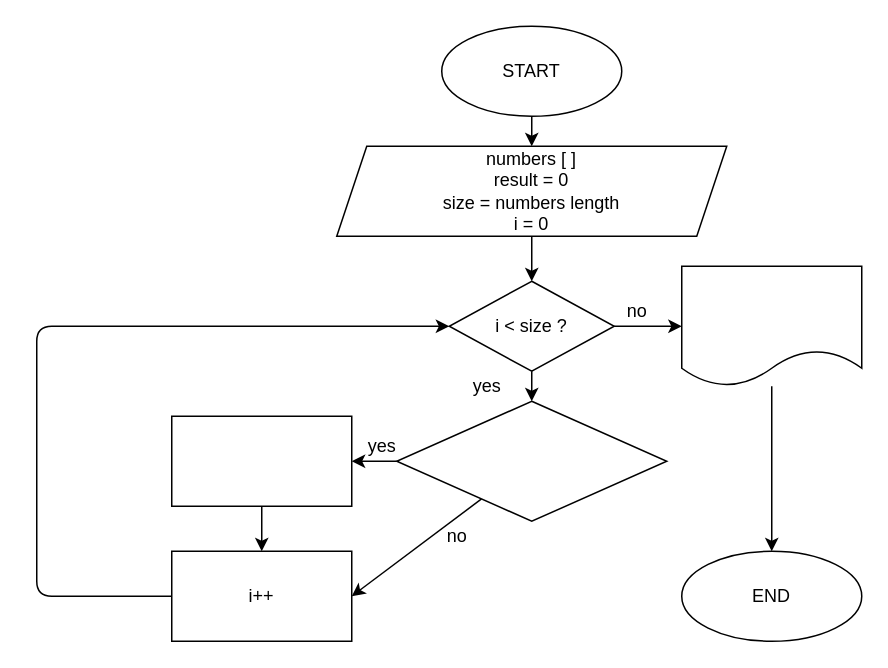
This 888x668 diagram has some shape labels left out. The centre of each missing label's shape, as x and y in pixels:
"number[i] > 0 ?" goes at (531,460).
"print result" goes at (771,325).
"result = result++" goes at (261,460).
